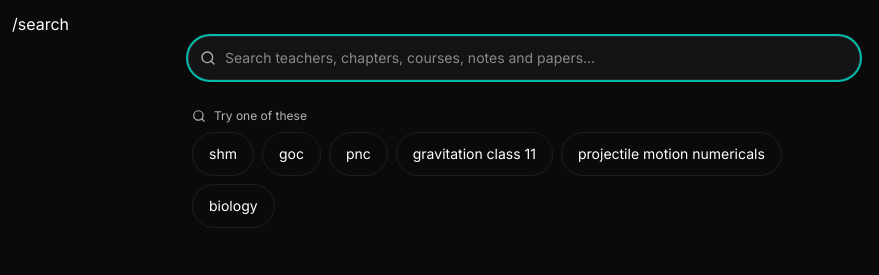
grouped results (the five groups) › omits a group entirely rather than drawing an empty one
In the dropdown: [524, 58] box [188,36,860,80], type "kinematics"
Wait 295 ms
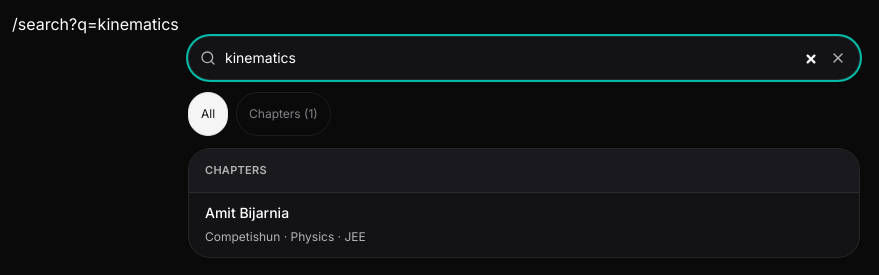
Expected: the heading "Chapters" is shown, [189,149,859,193]
